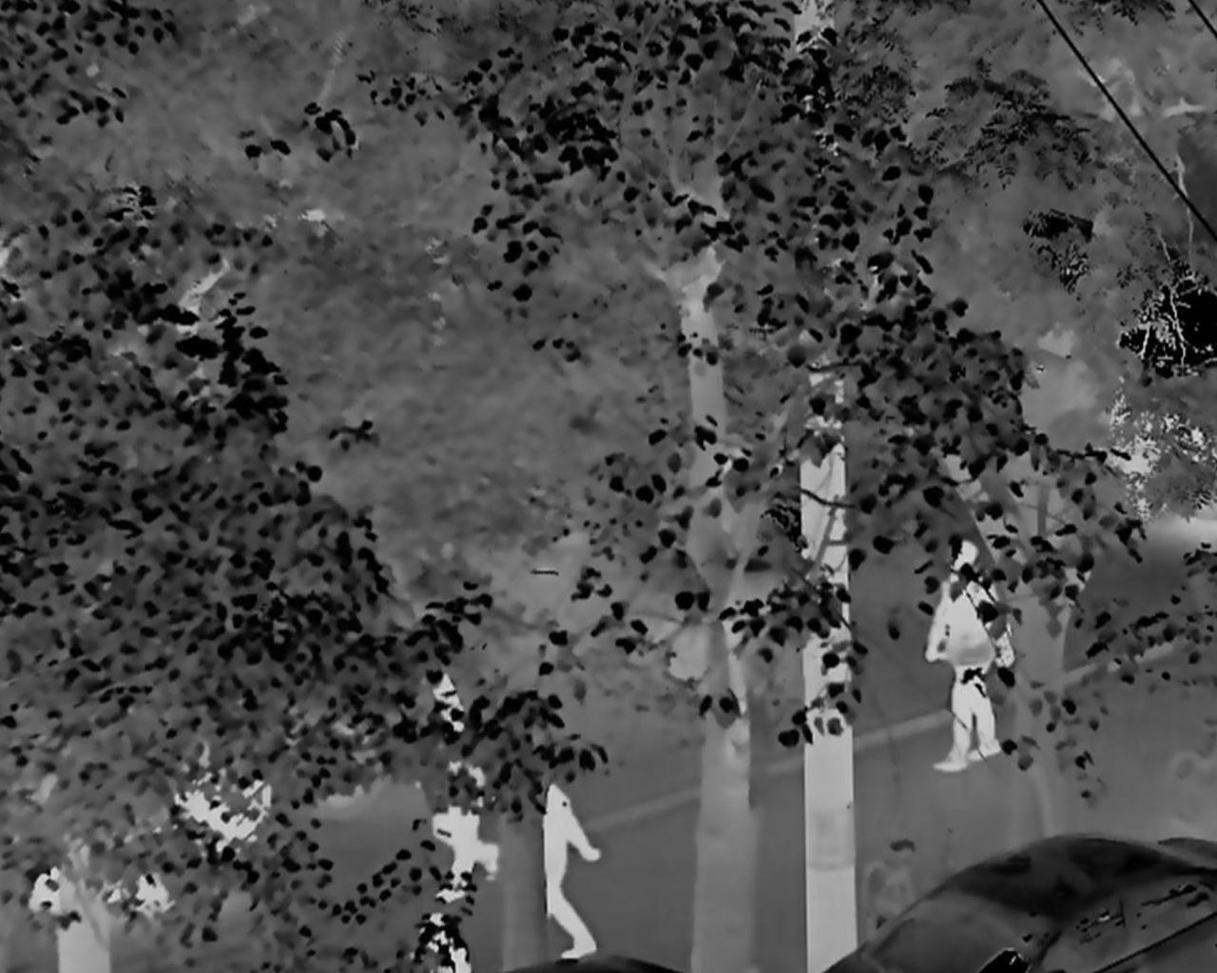person: (925, 540, 1011, 777), (424, 713, 500, 907), (531, 776, 603, 971)
